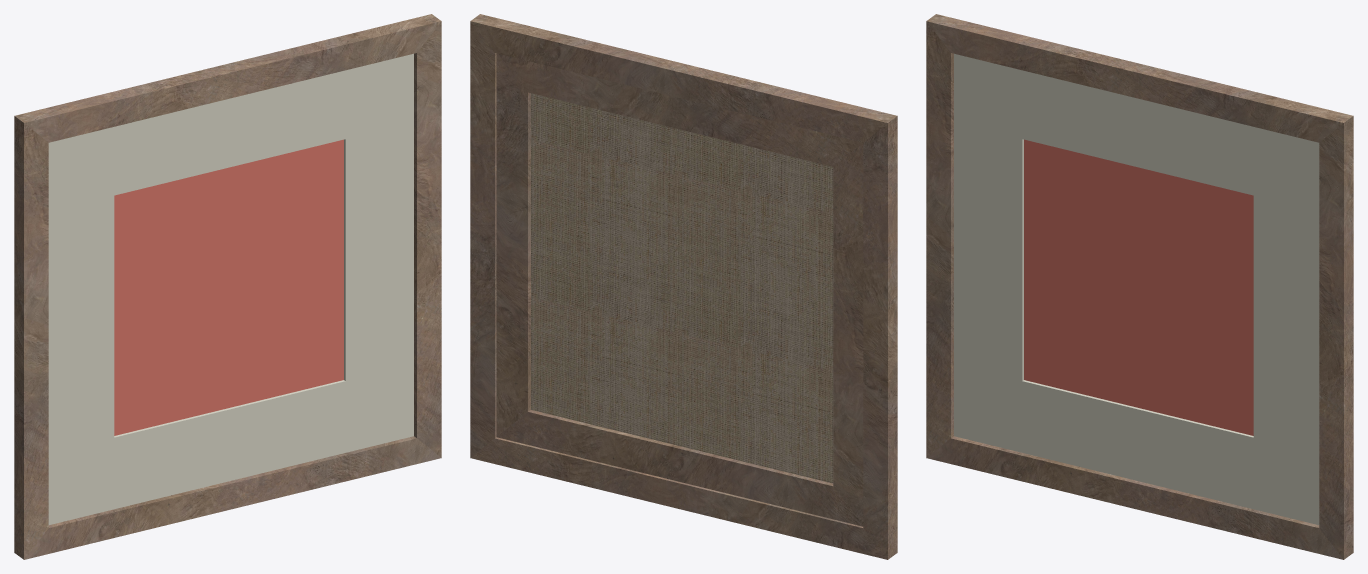
File: DefaultFarvelPictureFrame.glb
The picture shows the model from 3 angles, left to right: view 1: azimuth 30°, elevation 25°; view 2: azimuth 150°, elevation 25°; view 3: azimuth 330°, elevation 25°; orthographic projection.
Parts seen in each view (by area): view 1: frame_square-insetframe; view 2: frame_square-insetframe; view 3: frame_square-insetframe.
Boxes of the visible parts, box(x1,y1,x2,y2) form: frame_square-insetframe: box(14, 14, 441, 559); frame_square-insetframe: box(470, 14, 897, 559); frame_square-insetframe: box(926, 14, 1353, 559).
Bounding box in the file's own units: 0.6 × 0.6 × 0.0245.
4 materials, 2 textured.
